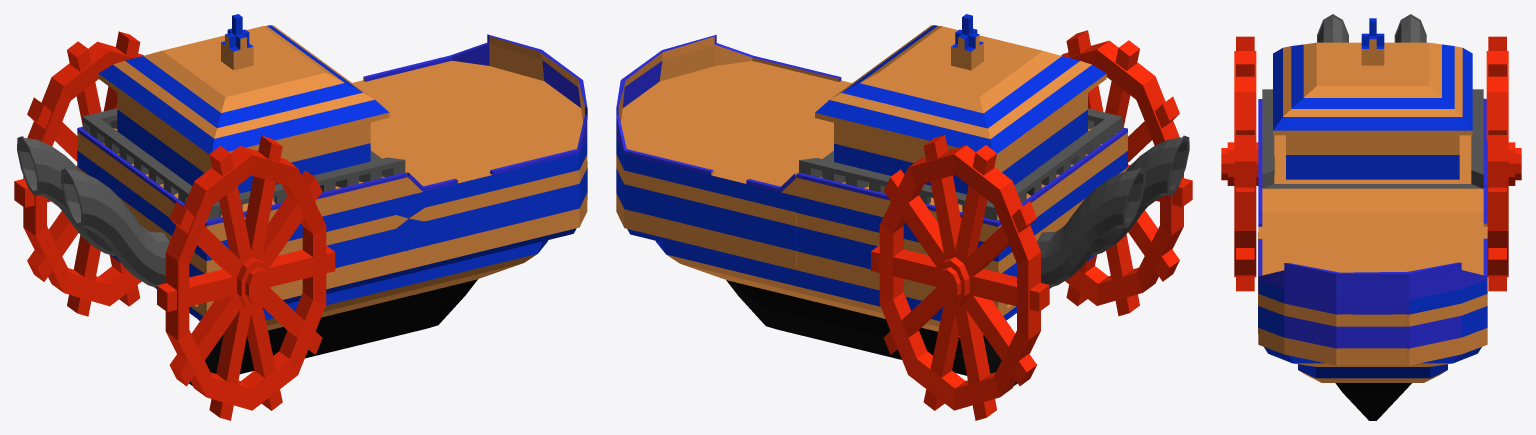
File: Boat 2.fbx
The picture shows the model from 3 angles, left to right: view 1: azimuth 30°, elevation 25°; view 2: azimuth 150°, elevation 25°; view 3: azimuth 270°, elevation 25°; orthographic projection. The views are drawn at different scales.
Visible parts, largest first — view 1: Boat, WaterWheels, WaterWheels.001; view 2: Boat, WaterWheels.001, WaterWheels; view 3: Boat, WaterWheels, WaterWheels.001.
Part boxes in pixels (box(x1,y1,x2,y2)): Boat: box(17, 14, 587, 385); WaterWheels: box(157, 135, 335, 420); WaterWheels.001: box(14, 31, 143, 316); Boat: box(616, 14, 1189, 385); WaterWheels.001: box(871, 135, 1049, 420); WaterWheels: box(1061, 30, 1192, 316); Boat: box(1258, 14, 1487, 420); WaterWheels: box(1221, 36, 1258, 291); WaterWheels.001: box(1486, 36, 1521, 291).
Bounding box in the file's own units: 668 × 437 × 378.
